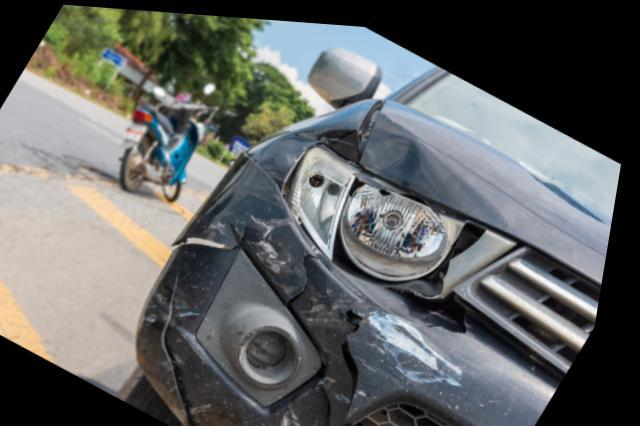crack: (171, 266, 208, 426), (335, 283, 373, 421), (181, 220, 254, 247), (295, 247, 326, 301), (435, 294, 477, 328), (329, 376, 344, 426)
dent: (367, 109, 466, 201)
dislocated part: (250, 93, 388, 193)
lamp broken: (290, 142, 522, 295)
scratch: (378, 302, 476, 382), (254, 208, 298, 270), (287, 404, 315, 426)
